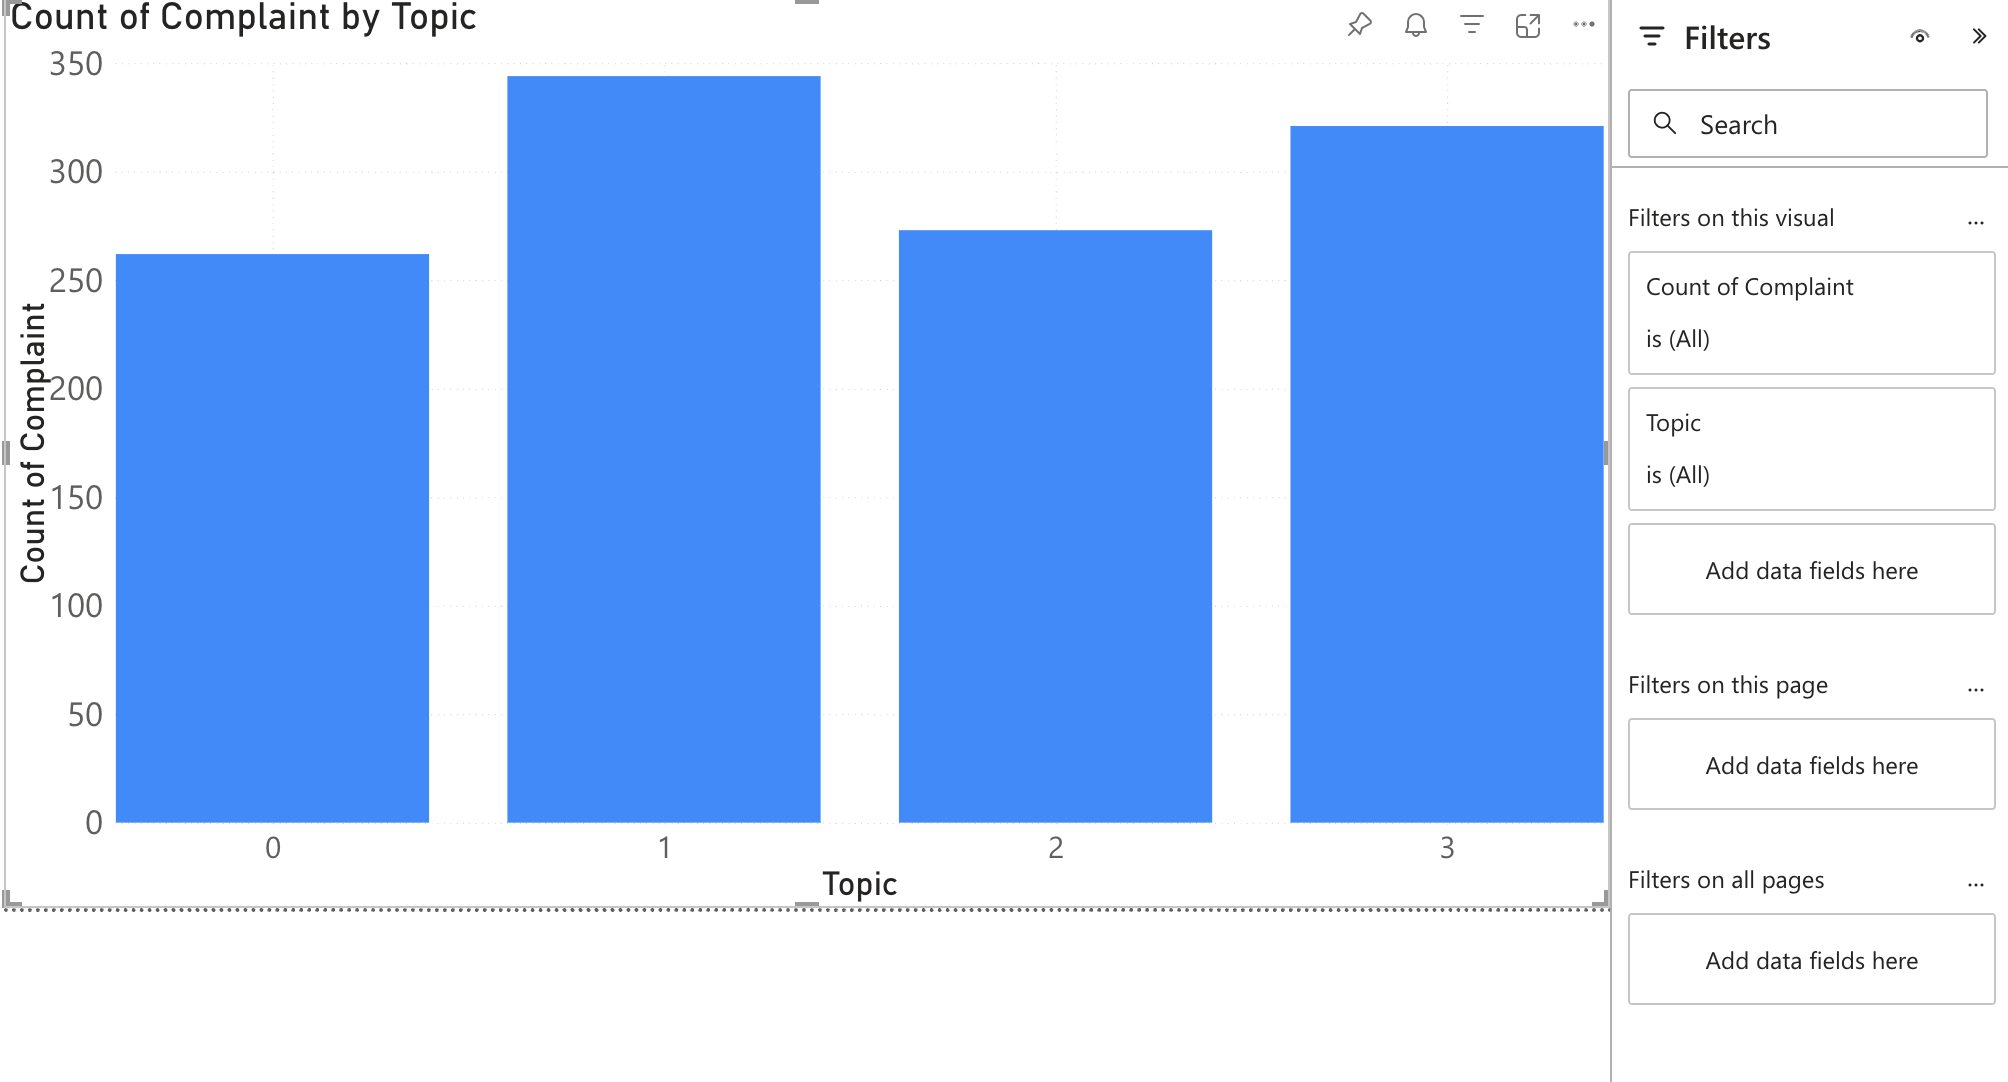

The dashboard page shown, as its layout file describes it:
{"tool":"powerbi","page":{"name":"Column Chart","canvas":[1280,720],"ordinal":3},"visuals":[{"type":"columnChart","fields":{"Category":["processed_customer_feedback_dataset_for_PowerBI 2.Topic"],"Y":["CountNonNull(processed_customer_feedback_dataset_for_PowerBI 2.Complaint)"]},"box":[9.5,0,1270.5,719.9],"z":0}]}

Visuals, with their boxes on the page's 1280x720 design canvas (x1, y1, x2, y2). These are canvas units, not pixel positions in the 2008x1082 screenshot, which may show the page scaled, cropped or inside an application window:
columnChart - processed_customer_feedback_dataset_for_PowerBI 2.Topic x CountNonNull(processed_customer_feedback_dataset_for_PowerBI 2.Complaint): region(10, 0, 1280, 720)
